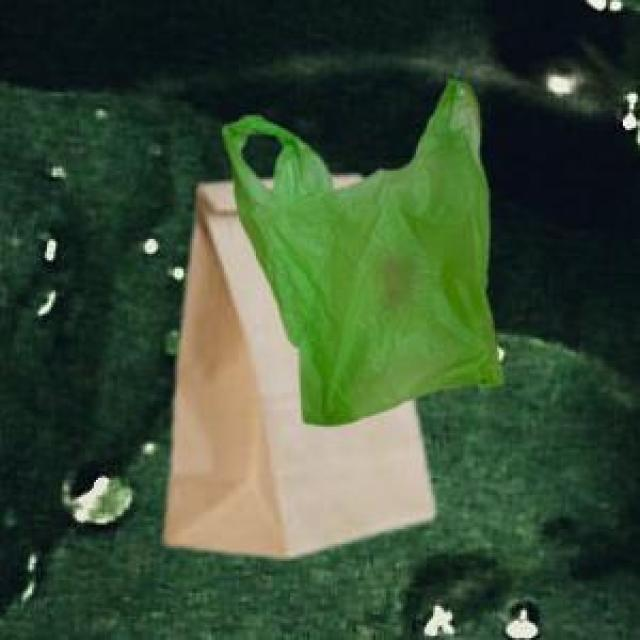paper: (160, 173, 429, 555)
